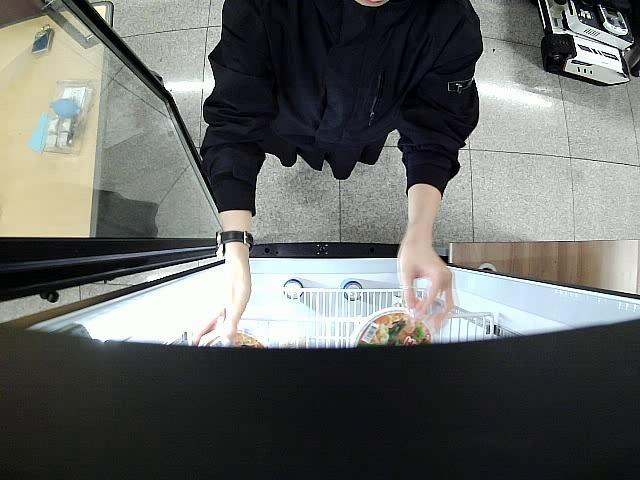09_yukGaeJang: (353, 306, 438, 350), (198, 324, 274, 354)
